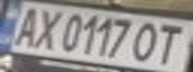0: (54, 9, 84, 53)
1: (75, 11, 100, 55), (93, 12, 115, 57)
7: (106, 16, 136, 60)
A: (3, 3, 45, 48)
O: (127, 19, 169, 63)
T: (148, 20, 190, 65)
X: (27, 6, 66, 51)
